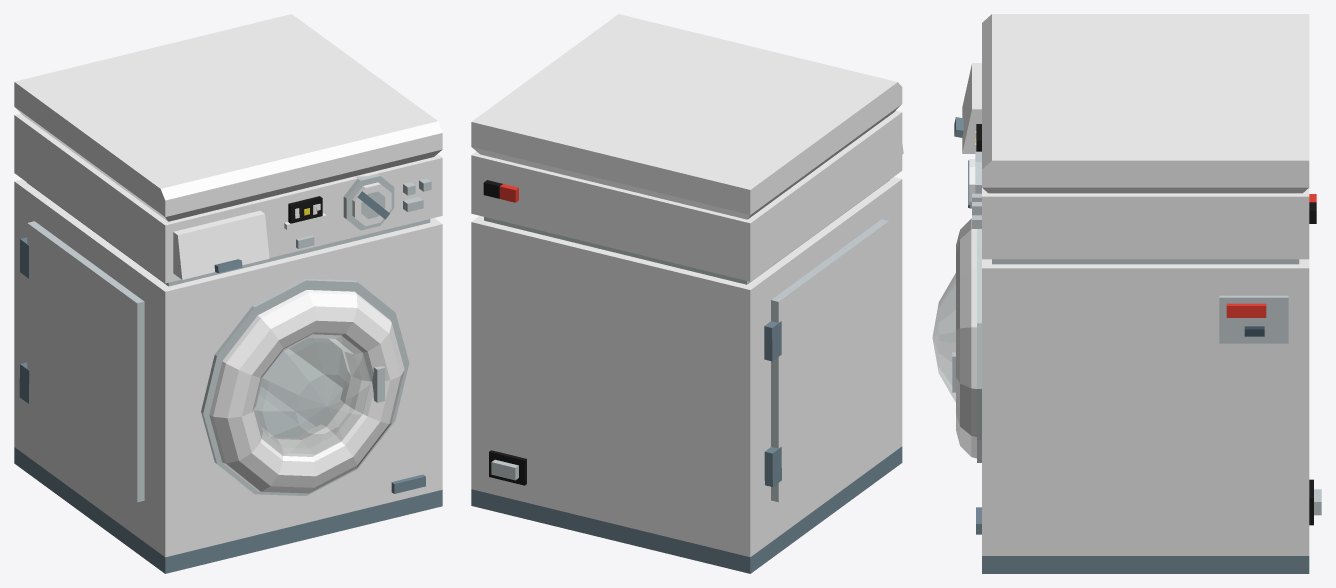
The model's file is 洗衣机_400.glb.
The picture shows the model from 3 angles, left to right: view 1: azimuth 30°, elevation 25°; view 2: azimuth 150°, elevation 25°; view 3: azimuth 270°, elevation 25°; orthographic projection. The views are drawn at different scales.
Parts seen in each view (by area): view 1: group5960018; view 2: group5960018; view 3: group5960018, group1859701035, group1799178273.
Part boxes in pixels (<box>): group5960018: <box>14,14,442,573</box>; group5960018: <box>471,14,903,573</box>; group5960018: <box>932,14,1321,573</box>; group1859701035: <box>1219,295,1288,343</box>; group1799178273: <box>1226,303,1266,317</box>.
Bounding box in the file's own units: 0.374 × 0.46 × 0.3925.
